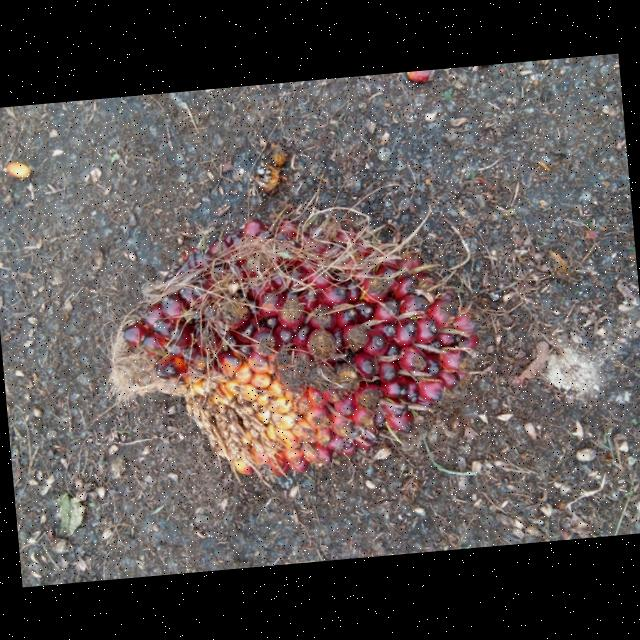Ripe: (109, 208, 486, 478)
